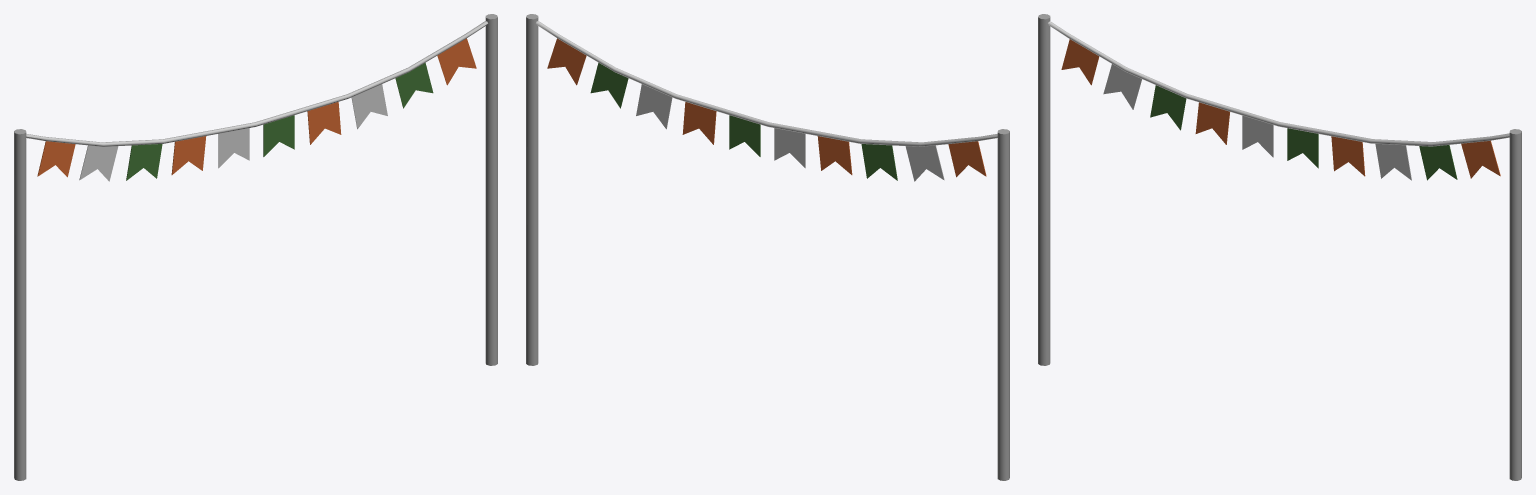
File: Decoration_02.fbx
The picture shows the model from 3 angles, left to right: view 1: azimuth 30°, elevation 25°; view 2: azimuth 150°, elevation 25°; view 3: azimuth 330°, elevation 25°; orthographic projection.
Visible parts, largest first — view 1: Decoration_02; view 2: Decoration_02; view 3: Decoration_02.
Boxes of the visible parts, x1,y1,x2,y2 form: Decoration_02: (14, 14, 497, 480); Decoration_02: (526, 14, 1009, 480); Decoration_02: (1038, 14, 1521, 480).
Size of the model in its own units: 2.62 by 1.8 by 0.0605.
